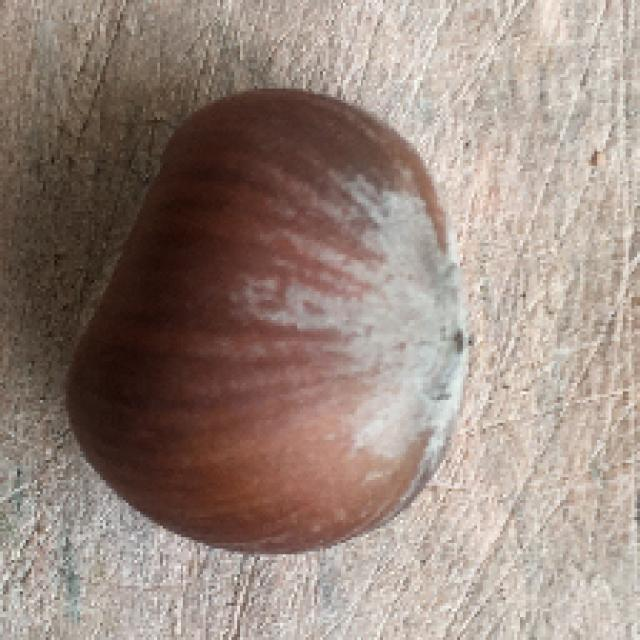qualityHazelnut: (55, 78, 479, 561)
